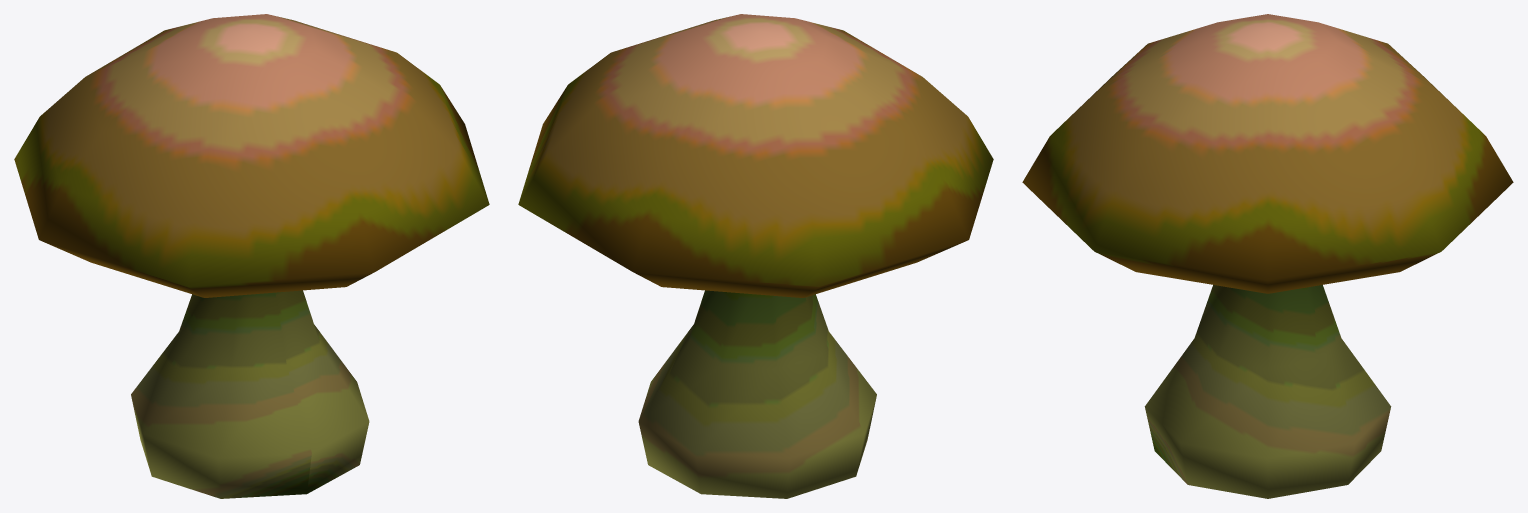
The model's file is Sieni_Tatti_Iso.FBX.
3 renders of one model, left to right at view 1: azimuth 30°, elevation 25°; view 2: azimuth 150°, elevation 25°; view 3: azimuth 270°, elevation 25°, orthographic.
Parts seen in each view (by area): view 1: Sieni_Tatti_Iso; view 2: Sieni_Tatti_Iso; view 3: Sieni_Tatti_Iso.
Boxes of the visible parts, bbox=[...] form: Sieni_Tatti_Iso: bbox=[14, 14, 489, 498]; Sieni_Tatti_Iso: bbox=[518, 14, 993, 498]; Sieni_Tatti_Iso: bbox=[1022, 14, 1513, 498].
Size of the model in its own units: 42.42 by 42.07 by 42.44.
